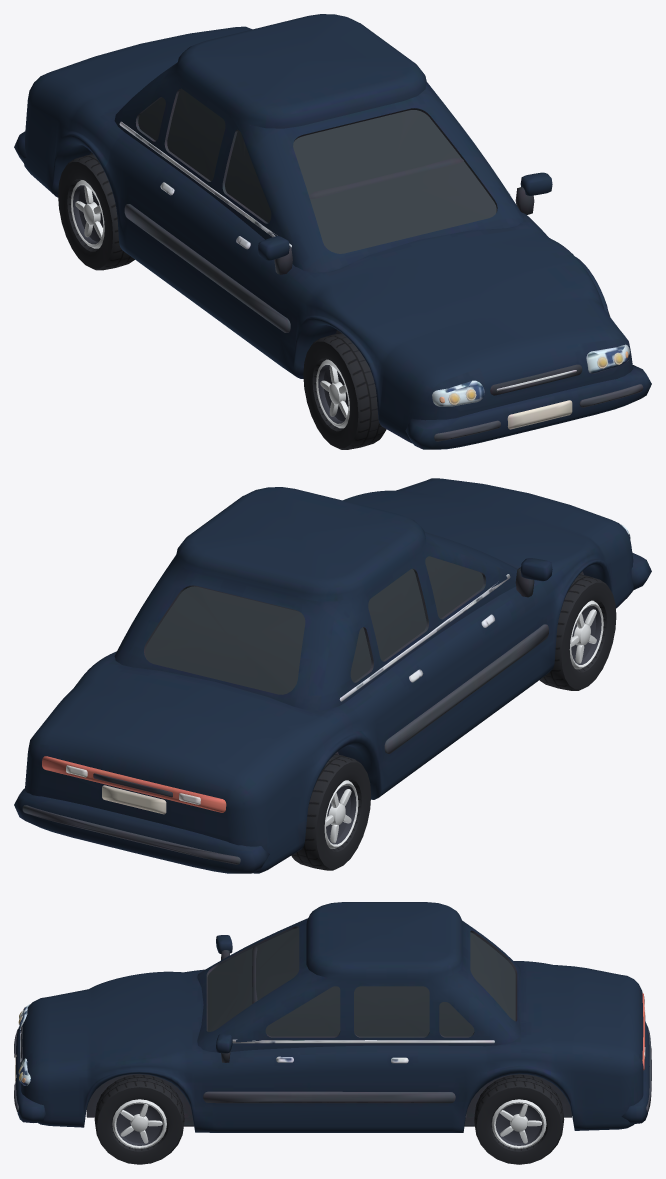
Rendered from car_sedan.glb.
The picture shows the model from 3 angles, top to bottom: view 1: azimuth 30°, elevation 25°; view 2: azimuth 150°, elevation 25°; view 3: azimuth 270°, elevation 25°; orthographic projection. The views are drawn at different scales.
Parts seen in each view (by area): view 1: 1990s-sedan_body, 1990s-sedan_windows, 1990s-sedan_wheel_fr, 1990s-sedan_wheel_rr; view 2: 1990s-sedan_body, 1990s-sedan_windows, 1990s-sedan_wheel_rr, 1990s-sedan_wheel_fr; view 3: 1990s-sedan_body, 1990s-sedan_windows, 1990s-sedan_wheel_fl, 1990s-sedan_wheel_rl.
Boxes of the visible parts, x1=… form: 1990s-sedan_body: x1=14, y1=14, x2=651, y2=449; 1990s-sedan_windows: x1=138, y1=89, x2=496, y2=253; 1990s-sedan_wheel_fr: x1=303, y1=333, x2=386, y2=449; 1990s-sedan_wheel_rr: x1=58, y1=154, x2=134, y2=270; 1990s-sedan_body: x1=14, y1=478, x2=651, y2=873; 1990s-sedan_windows: x1=145, y1=556, x2=483, y2=694; 1990s-sedan_wheel_rr: x1=291, y1=754, x2=371, y2=870; 1990s-sedan_wheel_fr: x1=539, y1=574, x2=616, y2=690; 1990s-sedan_body: x1=14, y1=902, x2=651, y2=1132; 1990s-sedan_windows: x1=207, y1=928, x2=515, y2=1036; 1990s-sedan_wheel_fl: x1=94, y1=1074, x2=184, y2=1164; 1990s-sedan_wheel_rl: x1=474, y1=1074, x2=564, y2=1164.
Size of the model in its own units: 1.9 by 1.5 by 4.67.
6 materials, 2 textured.
